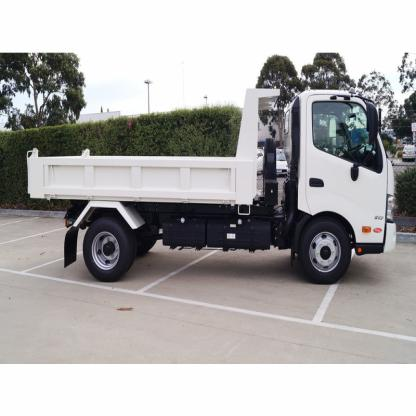dump_truck: (24, 78, 397, 287)
